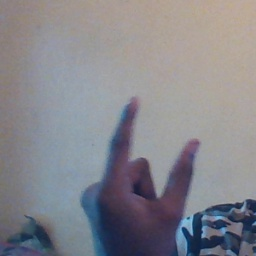U: (77, 95, 206, 250)
